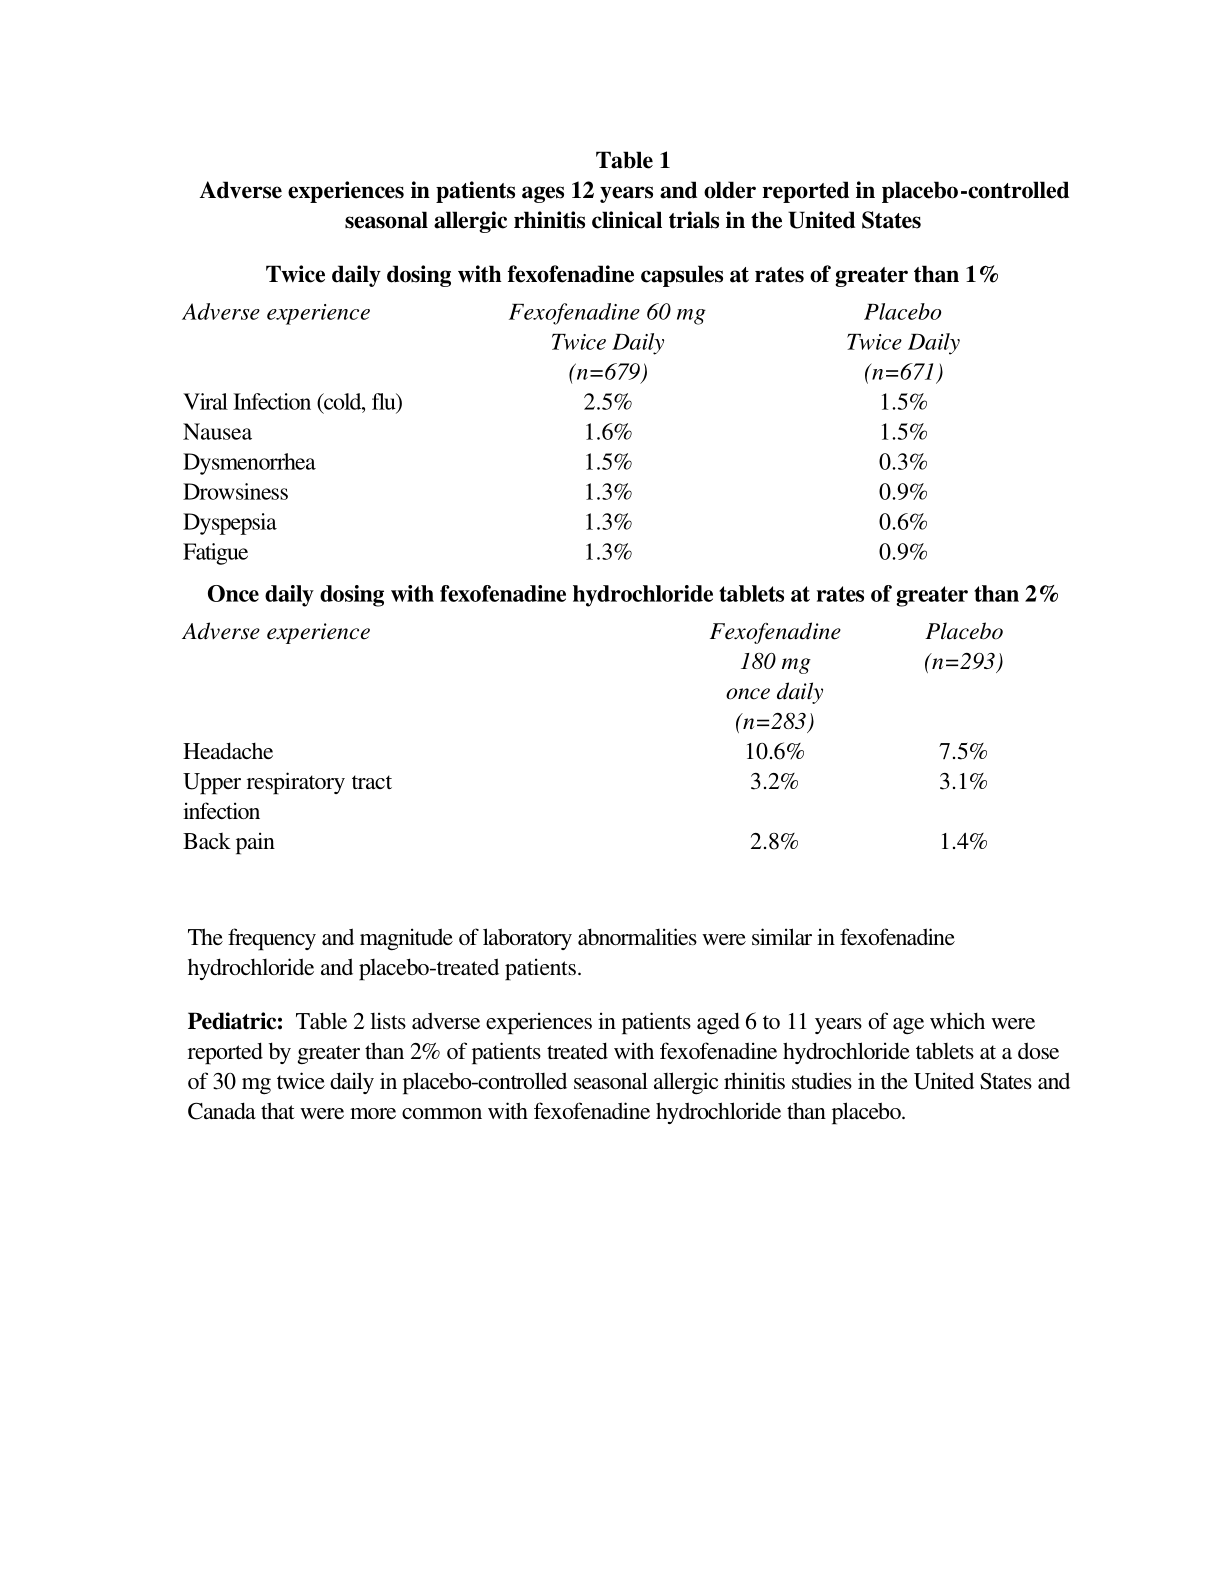nolines: (177, 300, 962, 564), (179, 618, 1005, 855)
